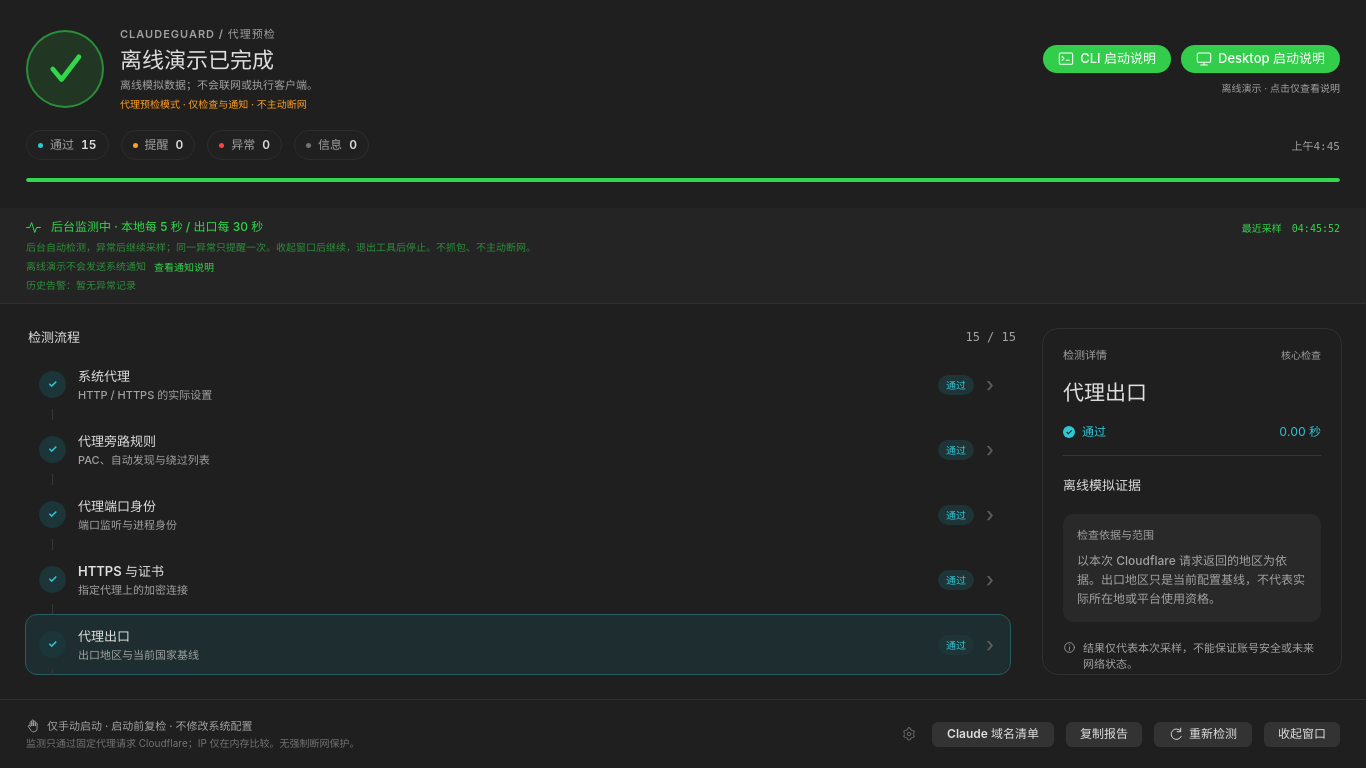
Scenario: keeps invalid settings visible and never scans the old profile after failure
Expected: the heading "离线演示已完成" is shown, 120,47 -> 274,73
What coordinates should you click on to do the following:
click the button named "设置"
I would click on:
 (908, 734)
Its box is 897,722 -> 920,746.
(page scrolled)
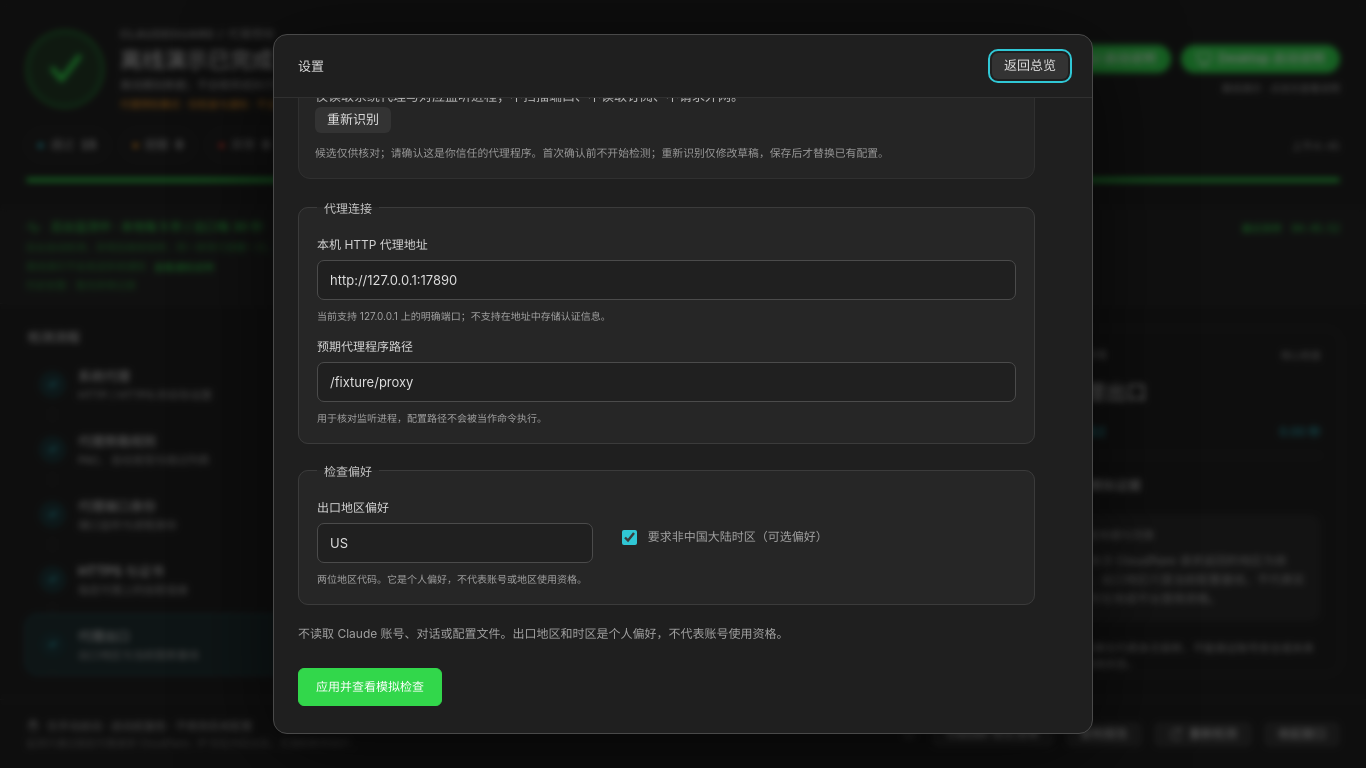
What coordinates should you click on to do the following:
click the button "应用并查看模拟检查"
I would click on:
 (370, 687)
Its box is 298,668 -> 442,706.
(page scrolled)
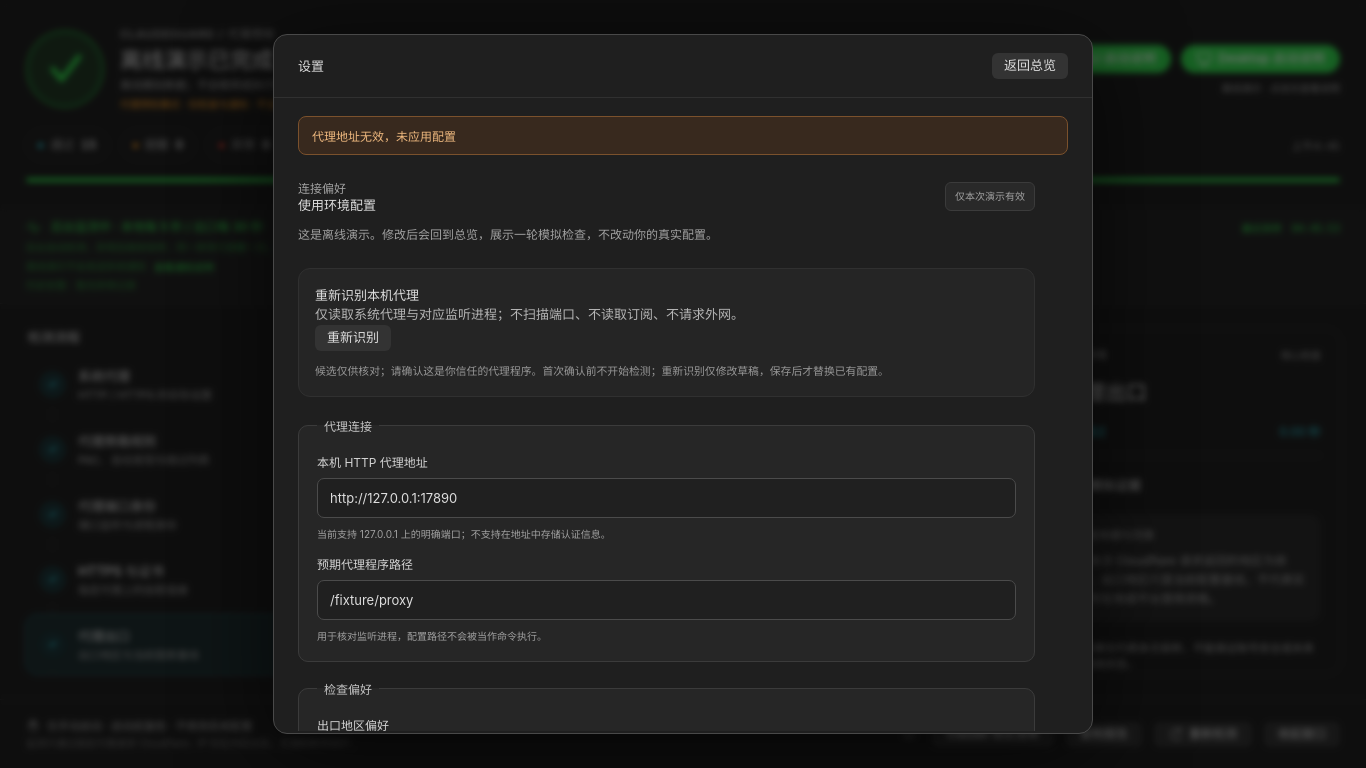
Expected: the message shows "代理地址无效", 312,129 -> 456,144
Expected: the heading "使用环境配置" is shown, 298,196 -> 376,214
